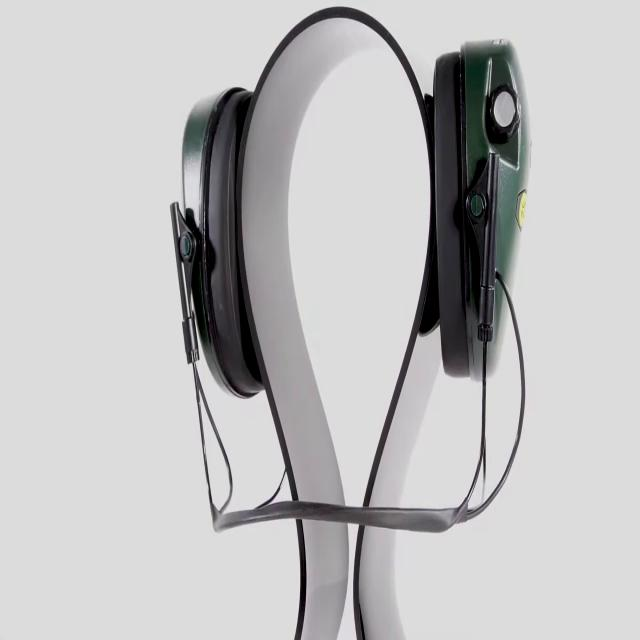earmuff: (427, 29, 535, 390), (175, 76, 270, 408)
